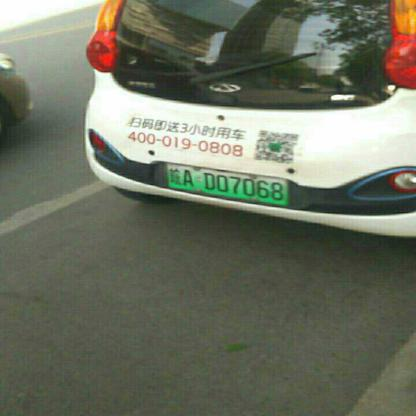lp: (166, 163, 290, 205)
